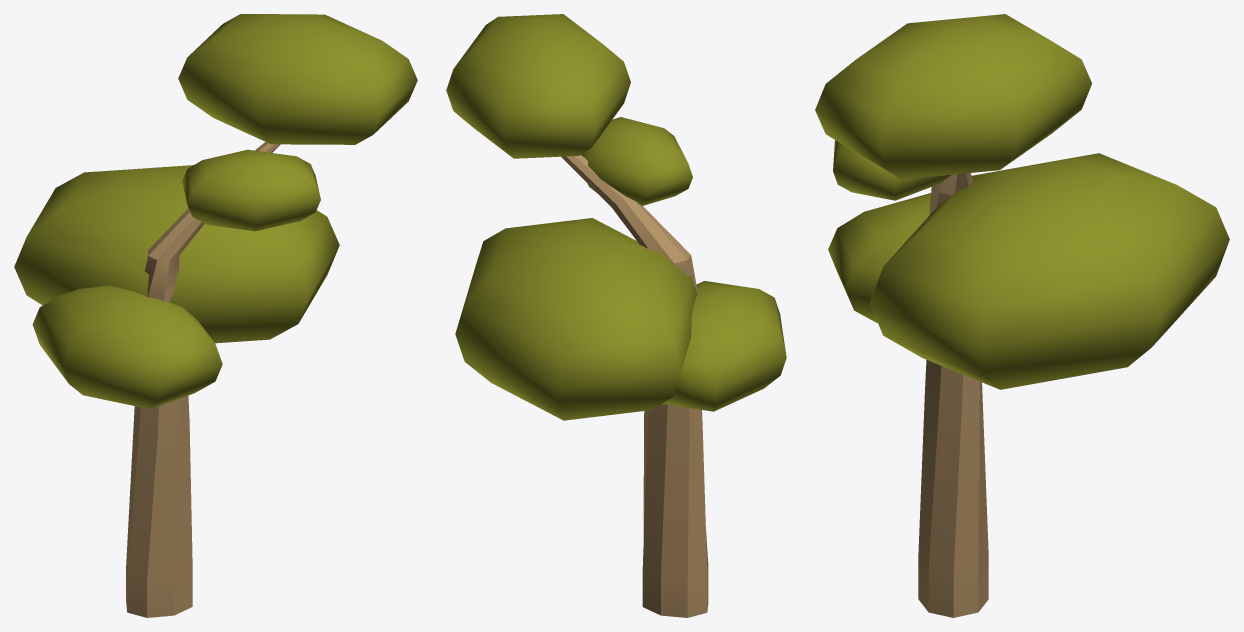
File: treeBlockout.fbx
3 views of the same model, side by side, from view 1: azimuth 30°, elevation 25°; view 2: azimuth 150°, elevation 25°; view 3: azimuth 270°, elevation 25° (orthographic). The views are drawn at different scales.
Parts seen in each view (by area): view 1: Tree; view 2: Tree; view 3: Tree.
Boxes of the visible parts, x1,y1,x2,y2 form: Tree: (14, 14, 417, 617); Tree: (446, 14, 786, 617); Tree: (815, 14, 1229, 617).
Size of the model in its own units: 3.36 by 5.3 by 3.07.
